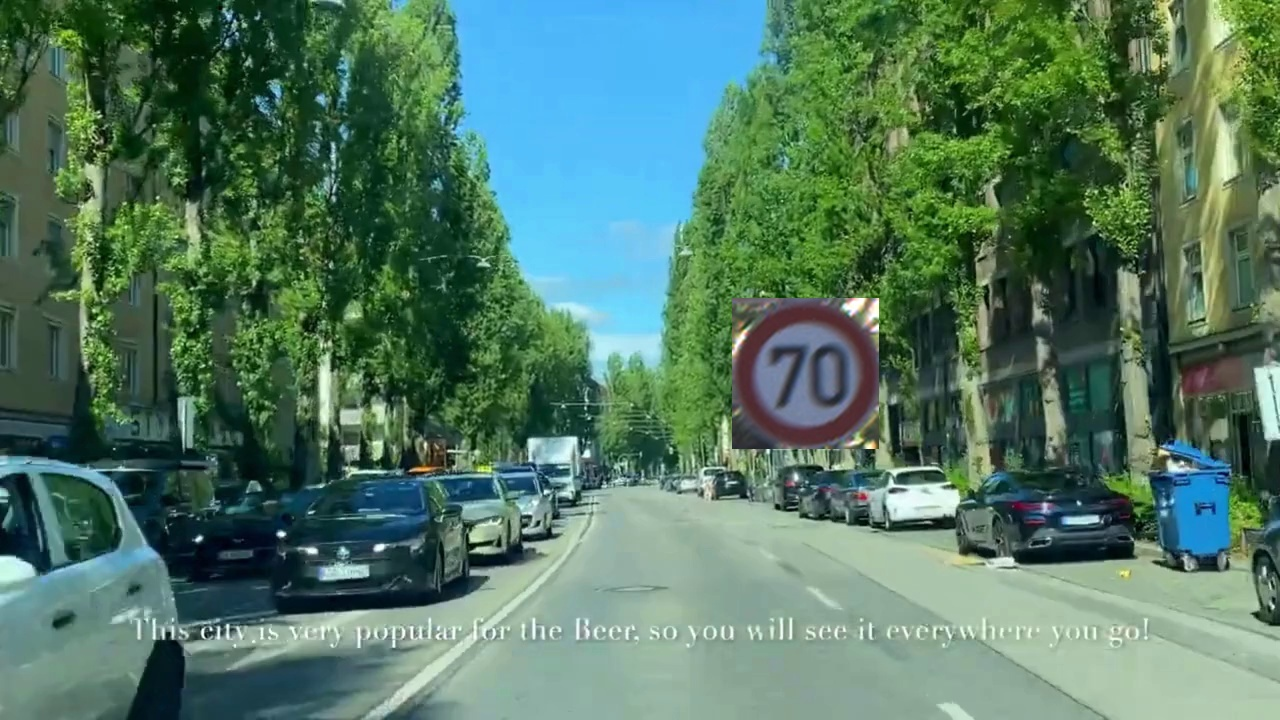Speed 70: (732, 298, 879, 449)
